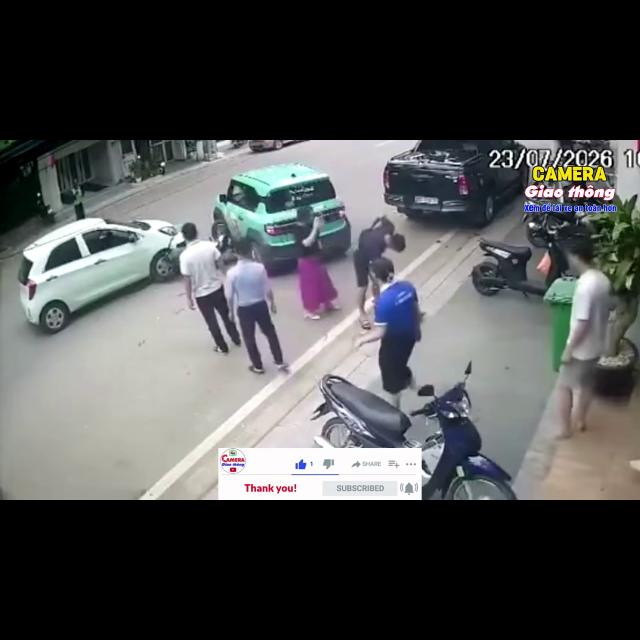car: (18, 219, 183, 333), (212, 163, 350, 269), (383, 140, 529, 225), (249, 140, 305, 151)
motorcycle: (312, 362, 516, 499), (471, 222, 570, 295), (164, 238, 186, 279), (37, 193, 54, 223), (232, 140, 247, 148), (526, 199, 544, 205)
